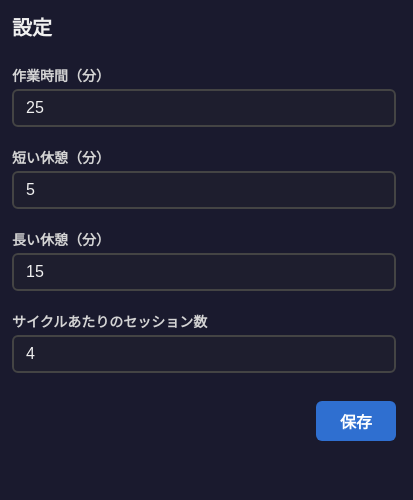
SettingsForm.vue（要件 3.7） › サイクルあたりのセッション数に範囲外の値を入力したとき › エラーメッセージが表示され、保存ボタンが無効化される（上限超え: 9）
Replace the text in the number field labelled "サイクルあたりのセッション数" with "9" at (204,354), box [12,335,396,373]
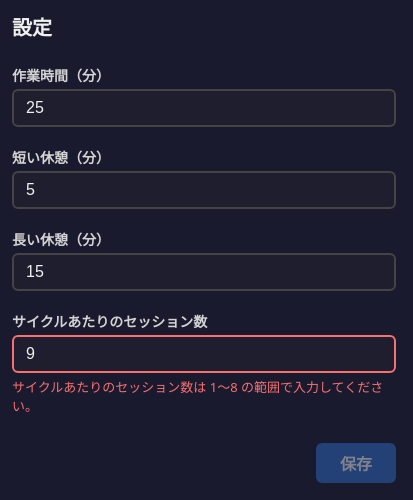
Check: the message reads "サイクルあたりのセッション数は 1〜8 の範囲で入力してください。", box [12,378,383,415]
Check: the button with aria-label "設定を保存" is disabled, box [316,443,396,483]
